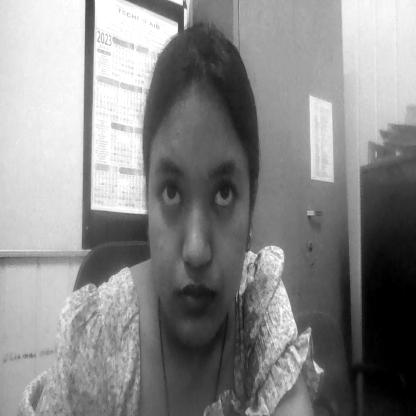Normal: (167, 133, 243, 336)
